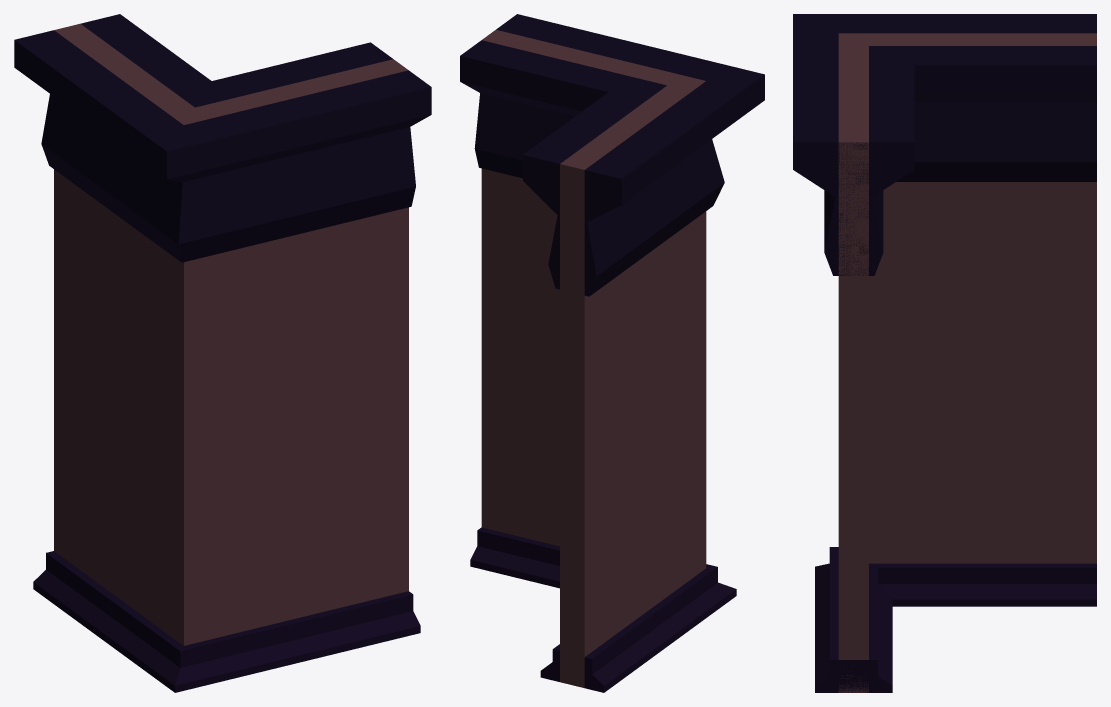
The model's file is Ecke.fbx.
3 views of the same model, side by side, from view 1: azimuth 30°, elevation 25°; view 2: azimuth 150°, elevation 25°; view 3: azimuth 270°, elevation 25° (orthographic). The views are drawn at different scales.
Visible parts, largest first — view 1: Cube.003, Cube.023, Cube.021, Cube.022, Cube.024; view 2: Cube.003, Cube.021, Cube.023, Cube.024, Cube.022; view 3: Cube.003, Cube.021, Cube.023, Cube.024, Cube.022.
Boxes of the visible parts, x1=… form: Cube.003: x1=54, y1=23, x2=408, y2=645; Cube.023: x1=167, y1=42, x2=431, y2=262; Cube.021: x1=14, y1=14, x2=211, y2=262; Cube.022: x1=175, y1=591, x2=420, y2=692; Cube.024: x1=33, y1=551, x2=183, y2=692; Cube.003: x1=481, y1=30, x2=706, y2=687; Cube.021: x1=523, y1=74, x2=764, y2=296; Cube.023: x1=460, y1=14, x2=763, y2=178; Cube.024: x1=540, y1=567, x2=736, y2=692; Cube.022: x1=470, y1=527, x2=717, y2=588; Cube.003: x1=838, y1=33, x2=1096, y2=692; Cube.021: x1=794, y1=14, x2=1096, y2=181; Cube.023: x1=793, y1=14, x2=914, y2=275; Cube.024: x1=830, y1=547, x2=1096, y2=606; Cube.022: x1=815, y1=547, x2=892, y2=692.
Size of the model in its own units: 500 by 1000 by 500.
